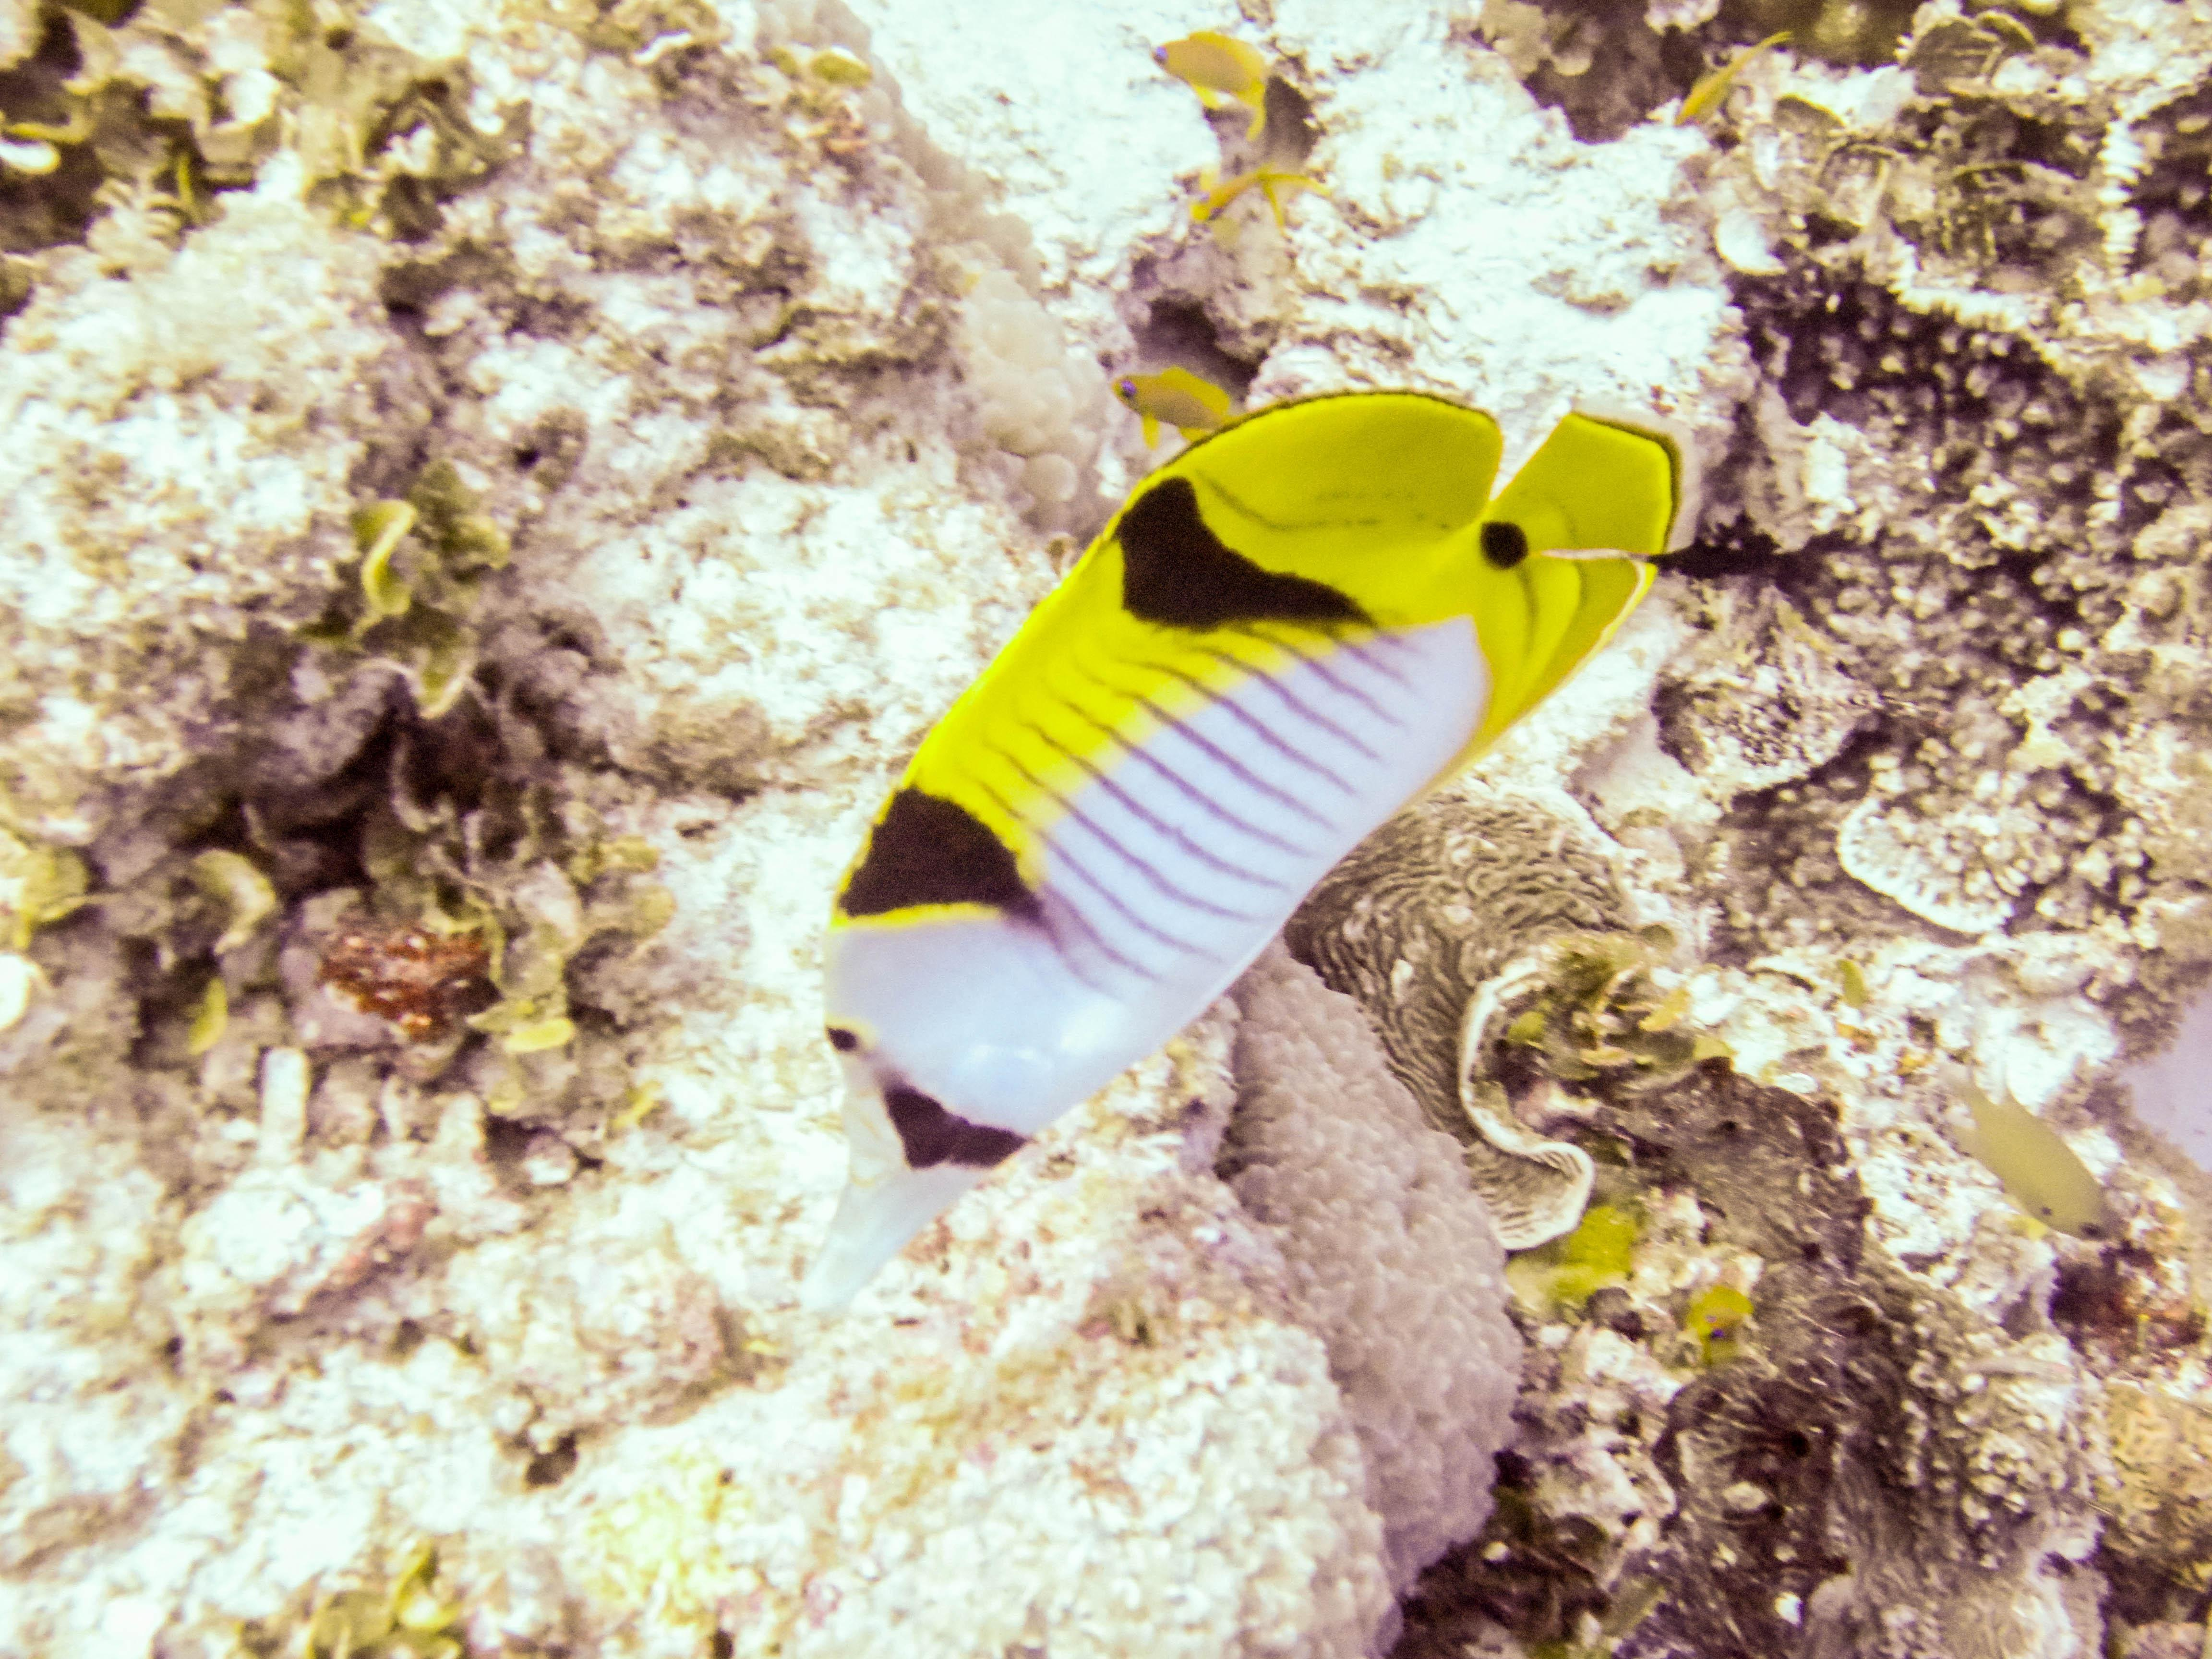Fish: (716, 380, 1676, 1314)
